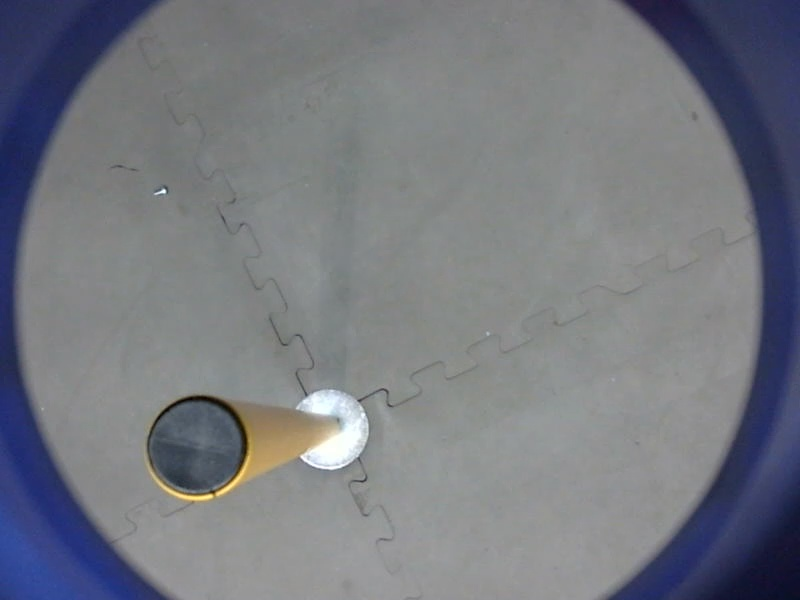tip: (137, 387, 258, 507)
